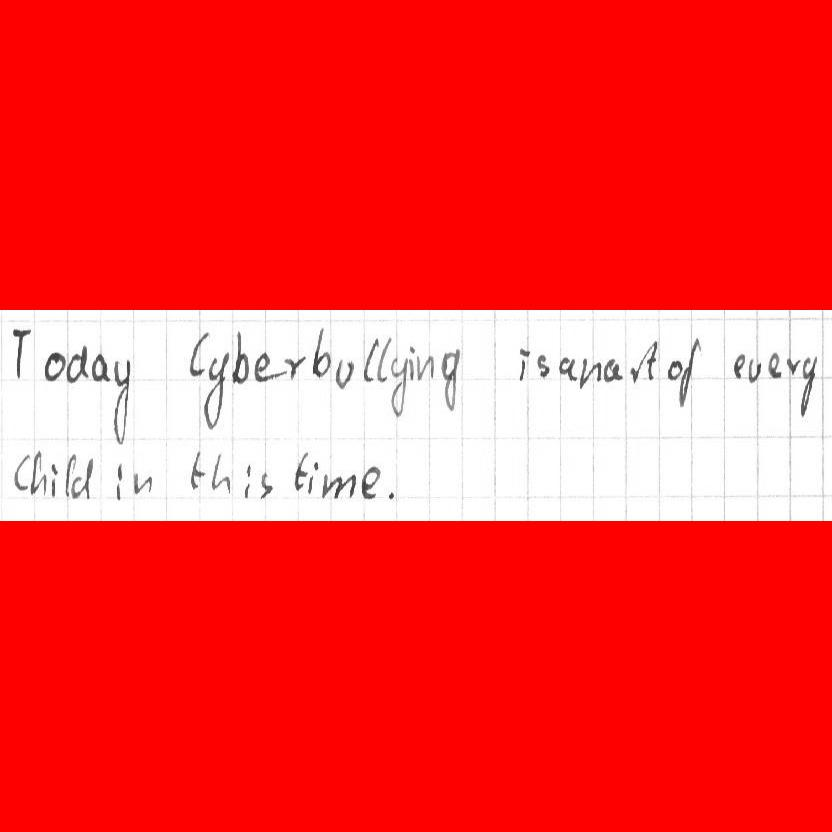Char: (108, 356, 131, 447), (203, 352, 227, 429), (8, 321, 32, 384), (679, 336, 700, 408), (440, 346, 460, 413), (185, 329, 211, 380), (798, 352, 818, 417), (69, 453, 94, 500), (310, 326, 332, 376), (388, 357, 406, 418), (321, 470, 356, 501), (635, 338, 658, 381), (9, 451, 31, 495), (232, 330, 250, 383), (209, 450, 230, 494), (66, 344, 87, 386), (187, 448, 206, 492), (362, 337, 380, 383), (376, 335, 393, 382), (42, 349, 65, 383), (578, 355, 600, 390), (292, 449, 309, 493), (89, 351, 111, 385), (254, 350, 276, 382), (361, 465, 381, 500), (31, 448, 45, 495), (336, 357, 356, 389), (282, 351, 303, 380), (63, 452, 76, 498), (516, 343, 531, 382), (305, 460, 321, 495), (131, 470, 153, 495), (257, 469, 274, 500), (556, 353, 576, 379), (406, 345, 419, 381), (767, 350, 783, 379), (420, 356, 436, 382), (242, 465, 254, 499), (535, 354, 552, 378), (114, 463, 125, 500), (731, 352, 746, 379), (748, 357, 764, 382), (605, 358, 622, 381), (784, 356, 802, 377), (666, 358, 682, 380), (628, 363, 643, 386), (49, 465, 59, 496), (384, 486, 397, 503)
